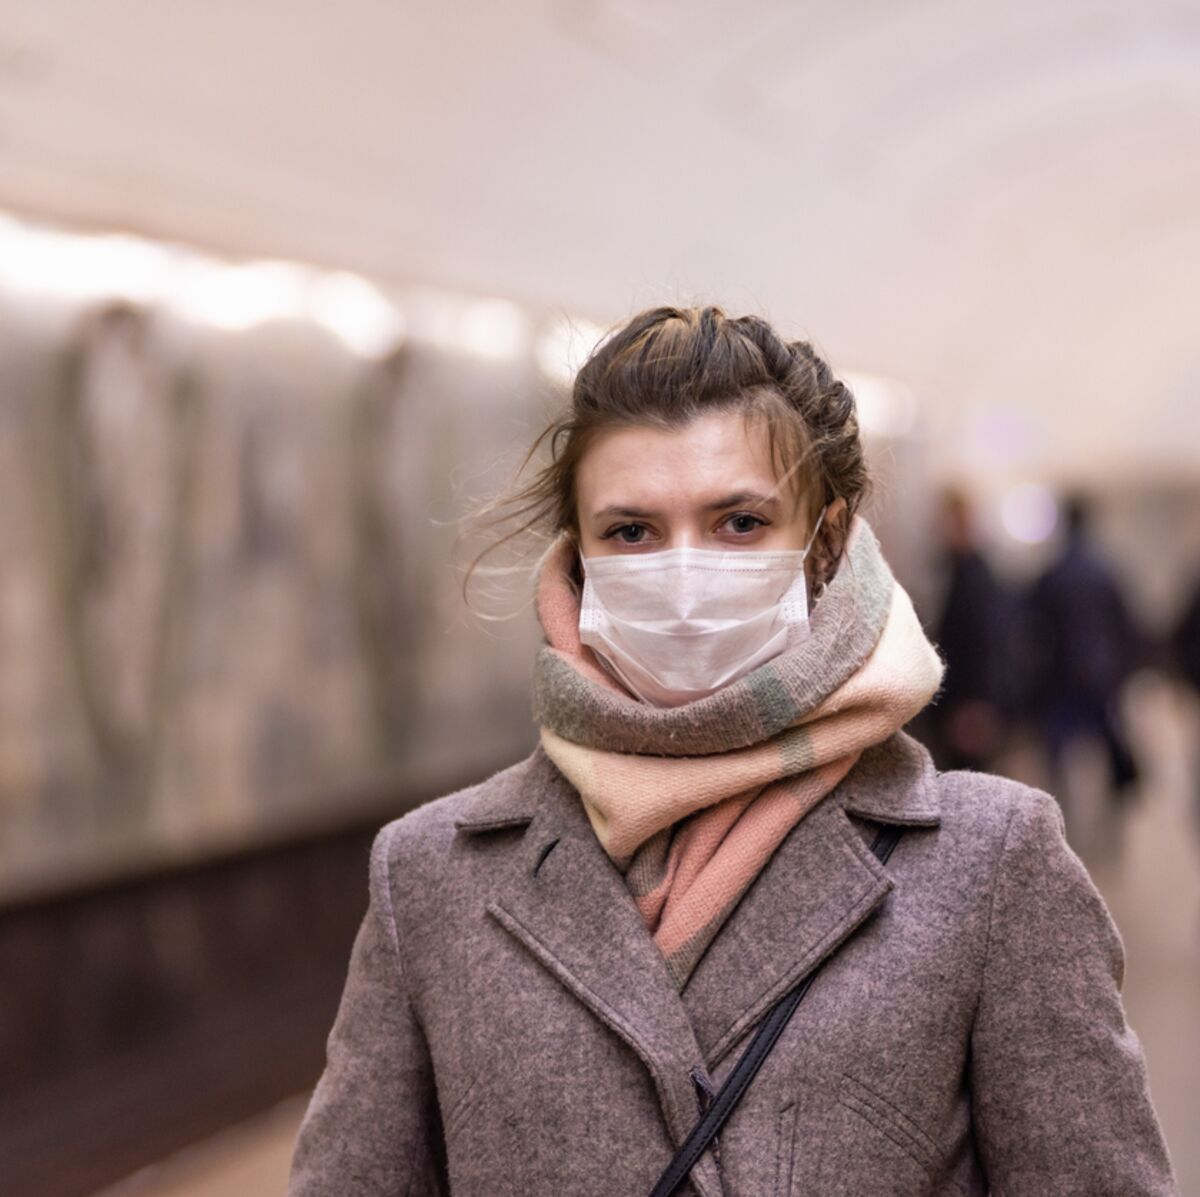with_mask: (578, 474, 812, 689)
